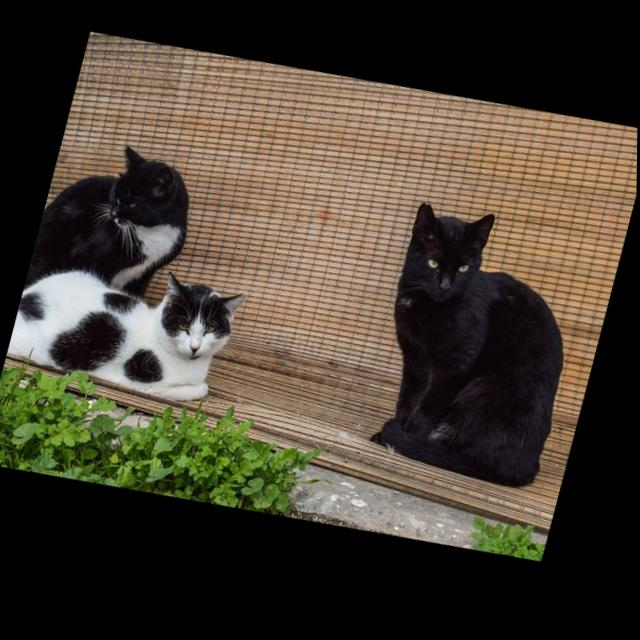animals: (7, 156, 246, 408), (372, 209, 565, 497)
